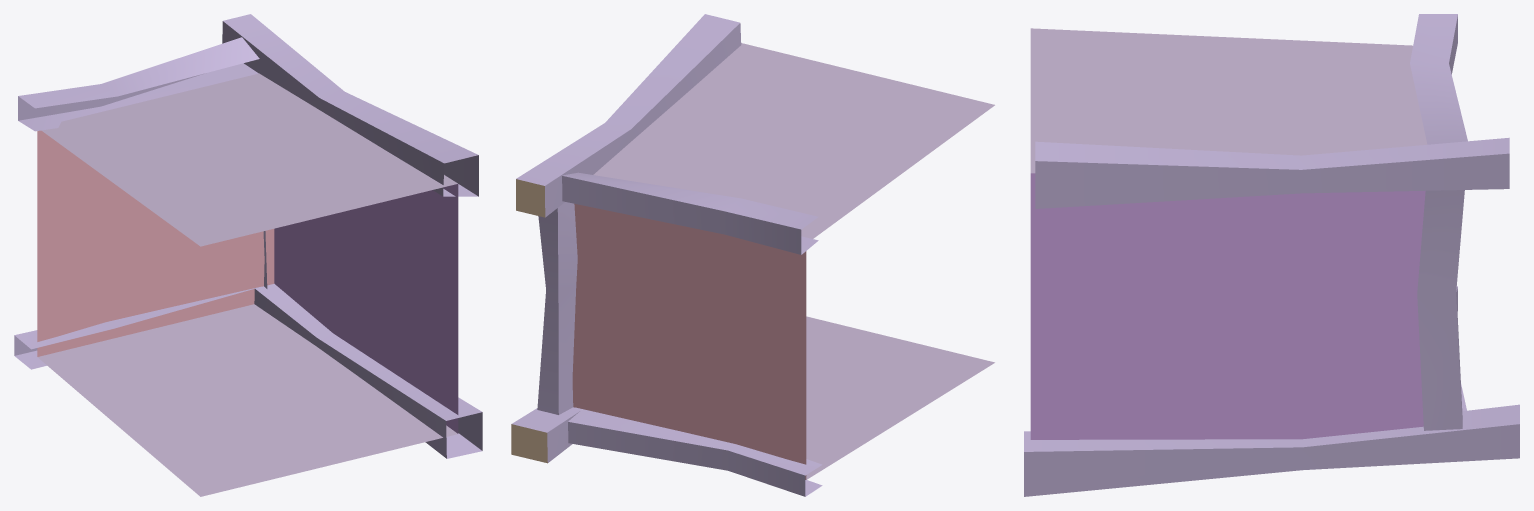
The picture shows the model from 3 angles, left to right: view 1: azimuth 30°, elevation 25°; view 2: azimuth 150°, elevation 25°; view 3: azimuth 270°, elevation 25°; orthographic projection. The views are drawn at different scales.
Parts seen in each view (by area): view 1: Object25; view 2: Object25; view 3: Object25.
Part boxes in pixels (x1,y1,x2,y2): Object25: (14, 14, 482, 496); Object25: (511, 14, 994, 496); Object25: (1024, 14, 1519, 496).
Size of the model in its own units: 22607 by 22458 by 29997.
